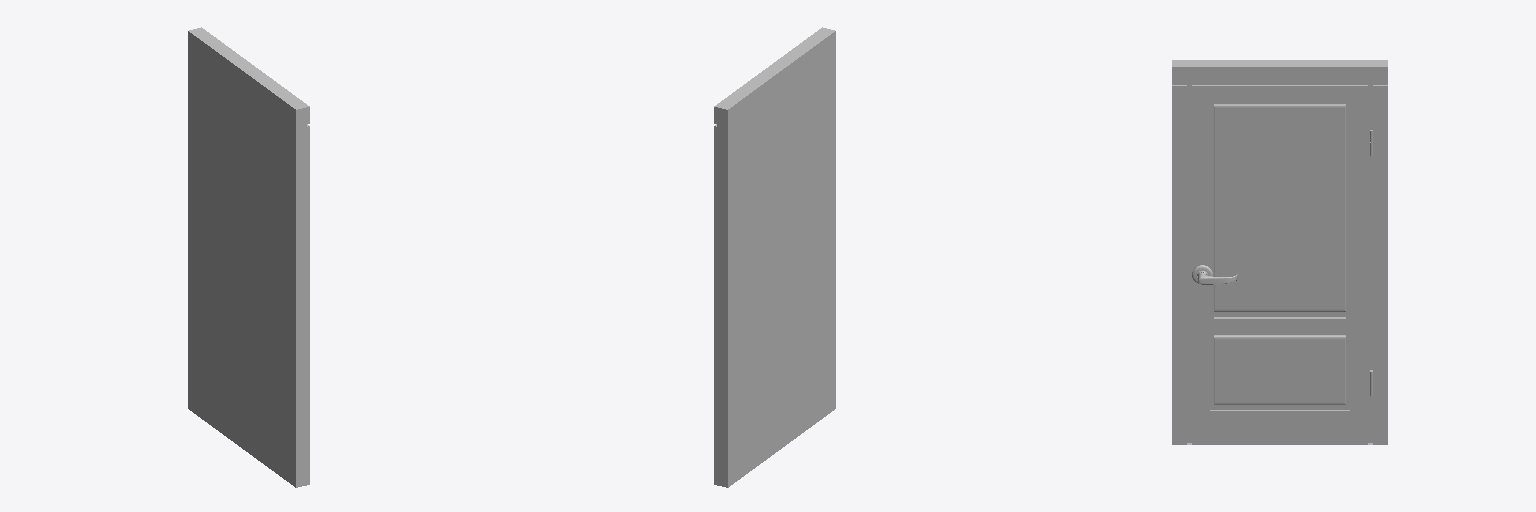
The model's file is uploads_files_3179471_door+obj.obj.
The picture shows the model from 3 angles: view 1: azimuth 30°, elevation 25°; view 2: azimuth 150°, elevation 25°; view 3: azimuth 270°, elevation 25°; orthographic projection.
Visible parts, largest first — view 1: Cube.003_Cube.005; view 2: Cube.003_Cube.005; view 3: Cube.003_Cube.005.
Boxes of the visible parts, box(x1,y1,x2,y2) form: Cube.003_Cube.005: box(188, 27, 309, 487); Cube.003_Cube.005: box(714, 27, 835, 487); Cube.003_Cube.005: box(1172, 60, 1387, 444).
Size of the model in its own units: 0.4579 by 5.94 by 3.08.